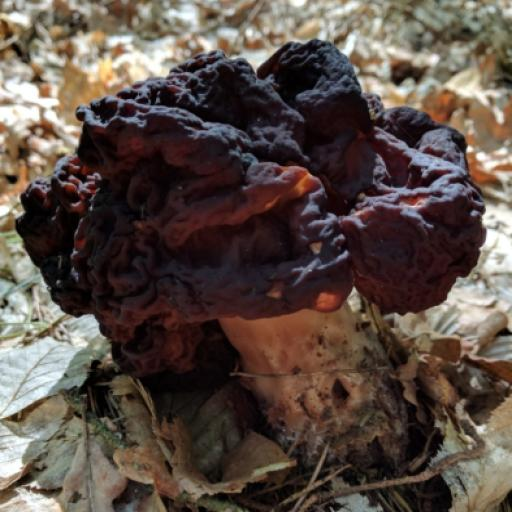False Morel: (11, 0, 512, 500)
